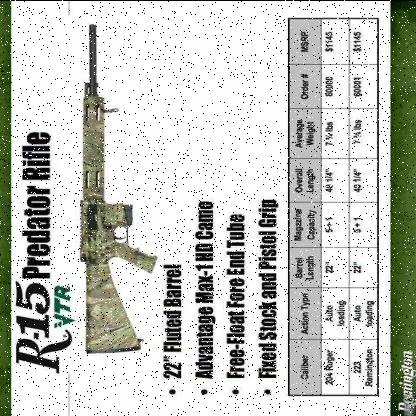rifle: (67, 14, 163, 361)
